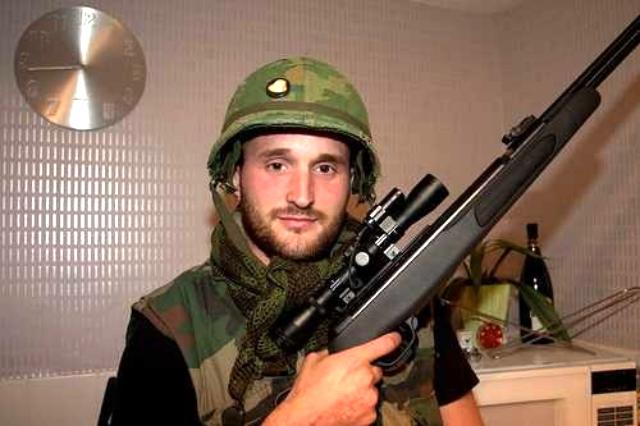rifle: (258, 21, 620, 380)
